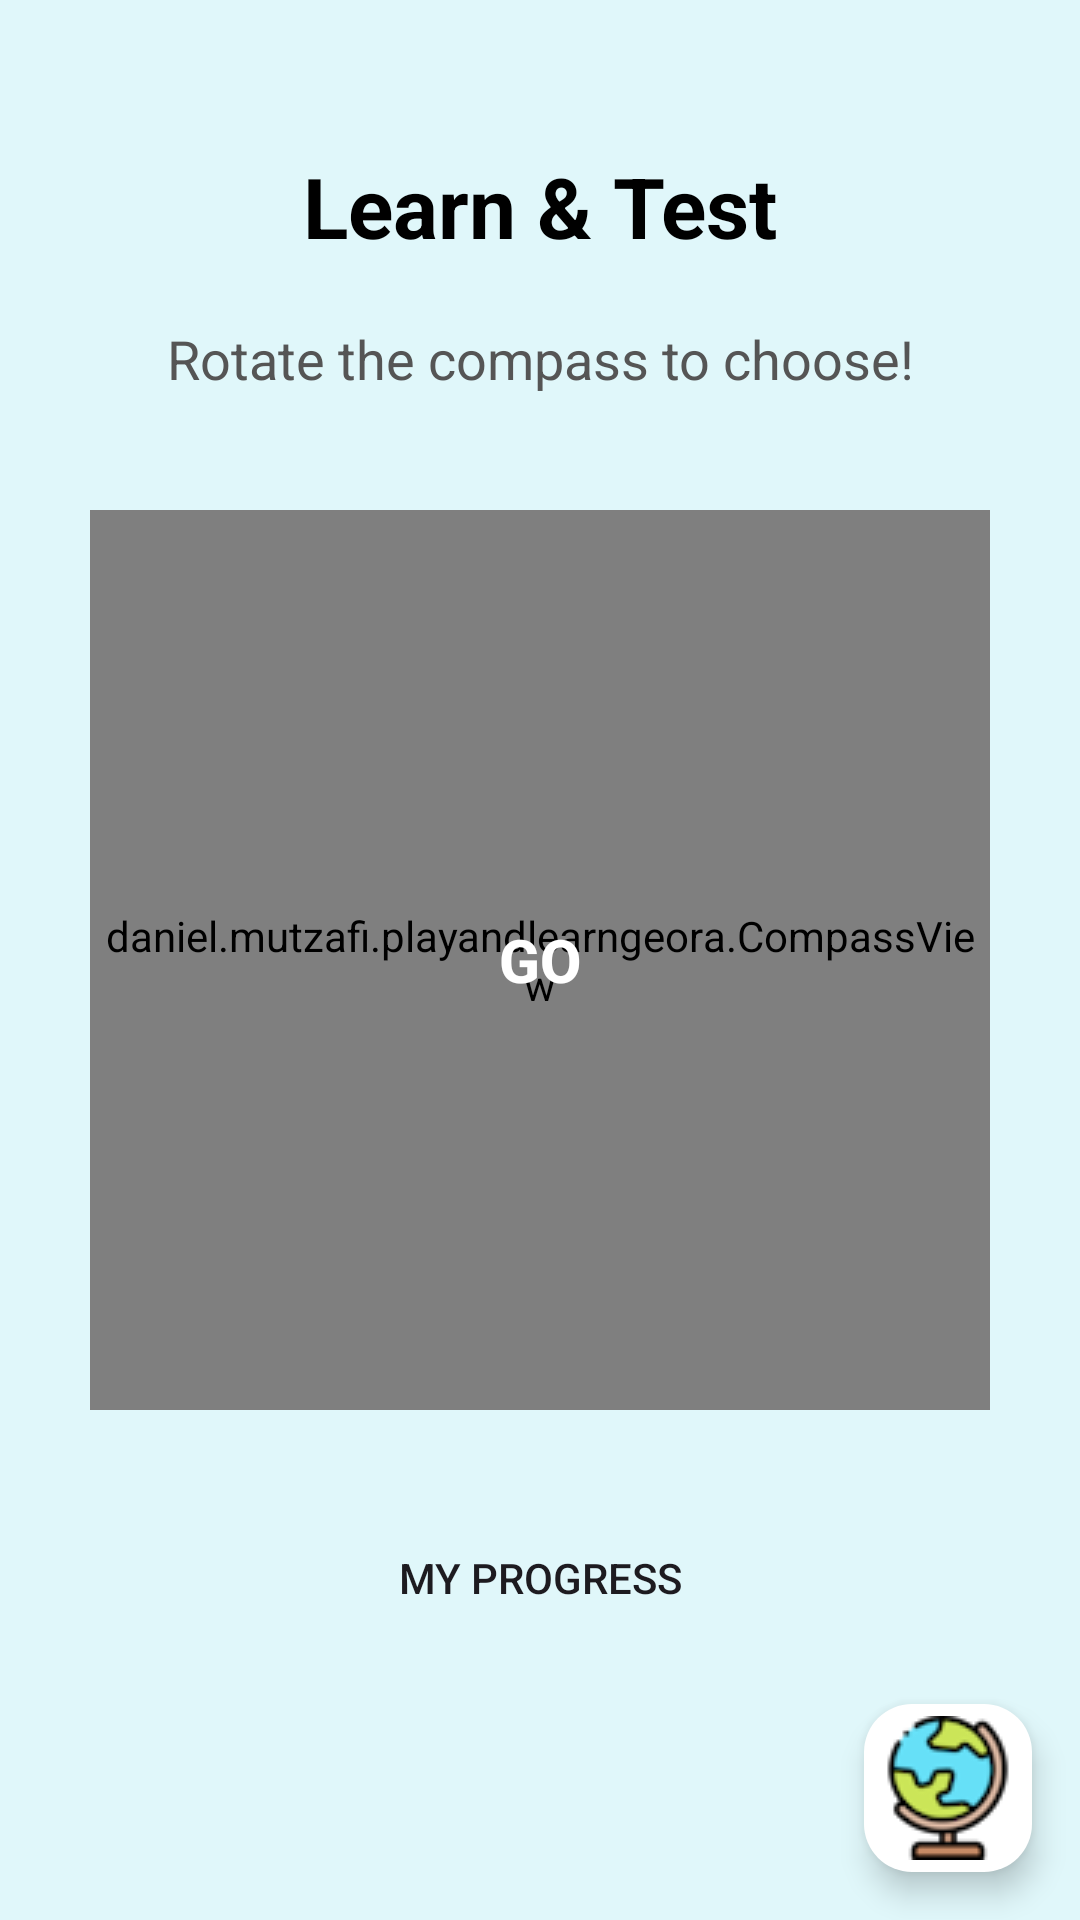

Screen size 1080*1920. Icon name, then its box in pixels as {"left": x1, "top": y1, "right": x2, "bottom": y2}:
globus: {"left": 864, "top": 1704, "right": 1032, "bottom": 1872}
